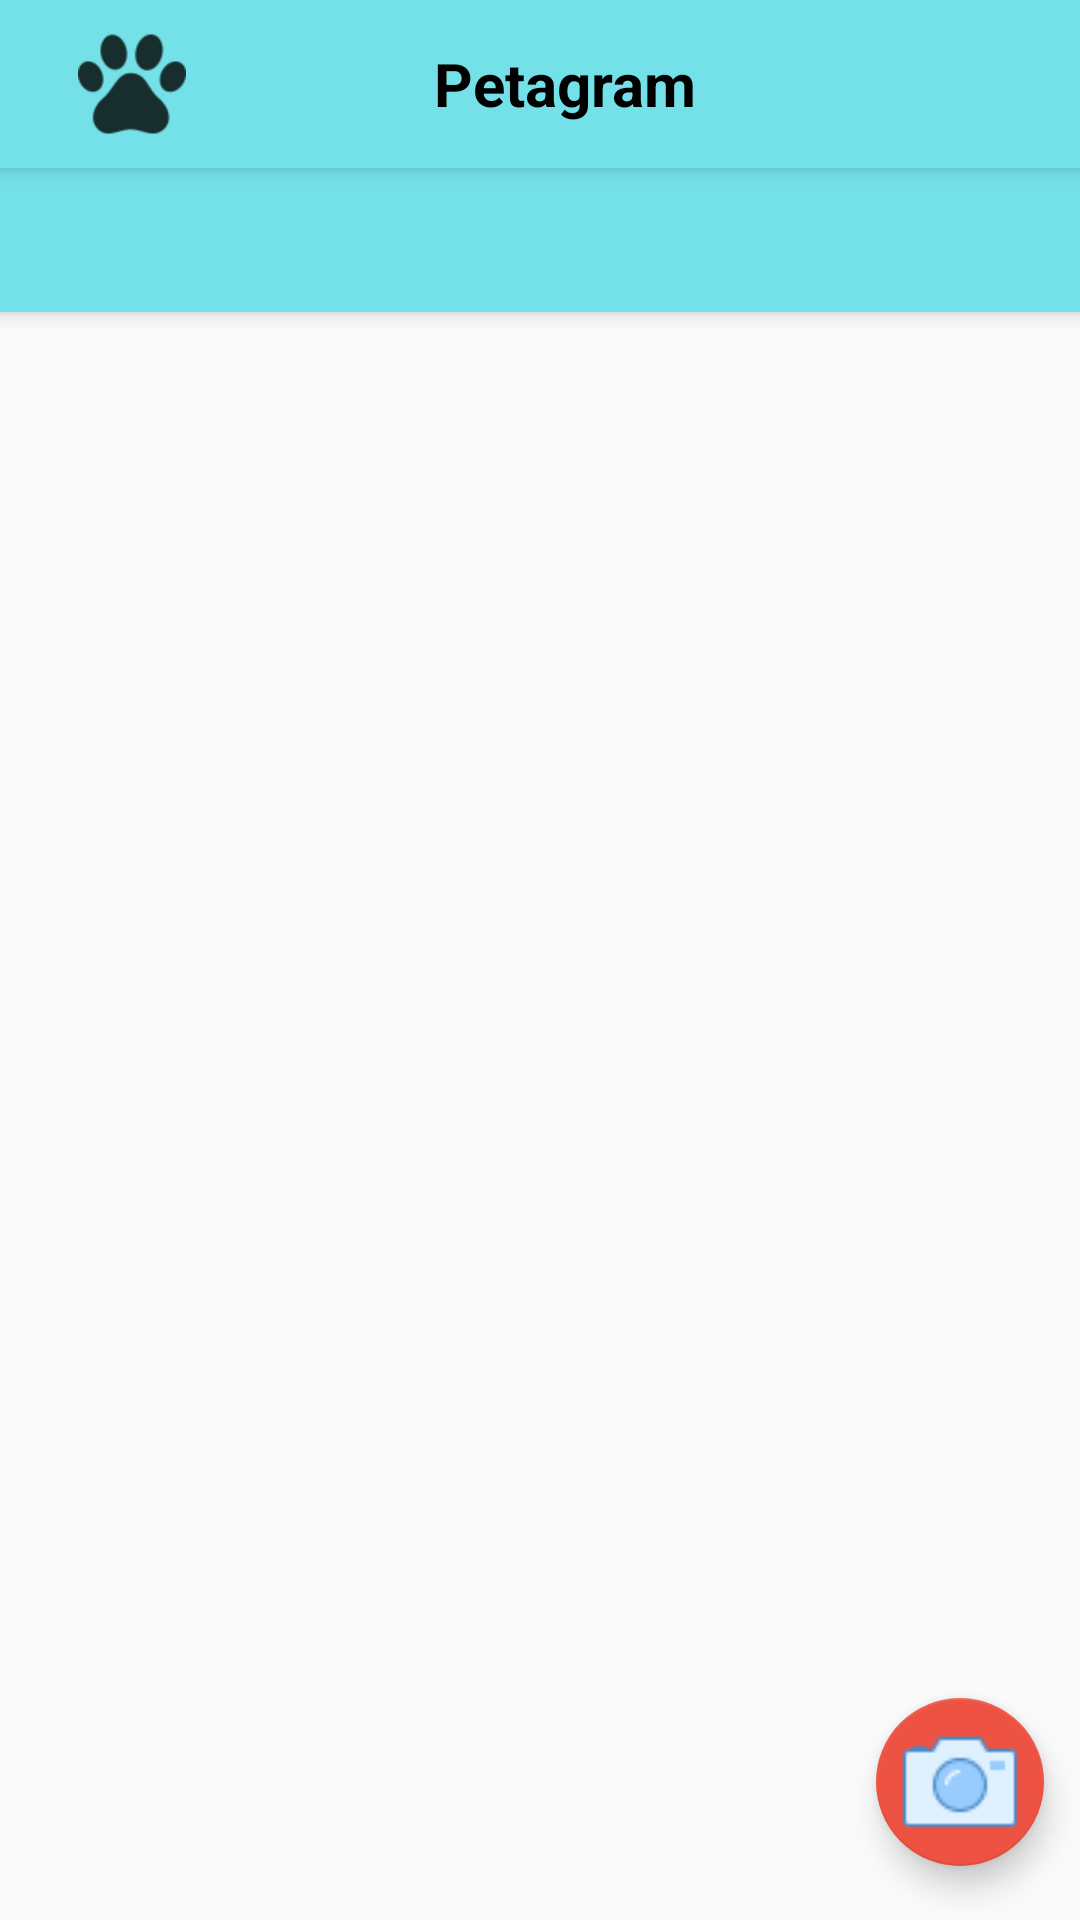

Screen size 1080 × 1920. Icon name, then its center in pixels as (x,y):
camera: (961,1790)
dog footprint: (132,84)
